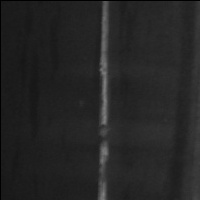scratches: (94, 1, 113, 200)
